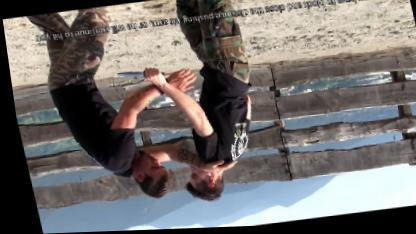knife: (110, 64, 164, 86)
